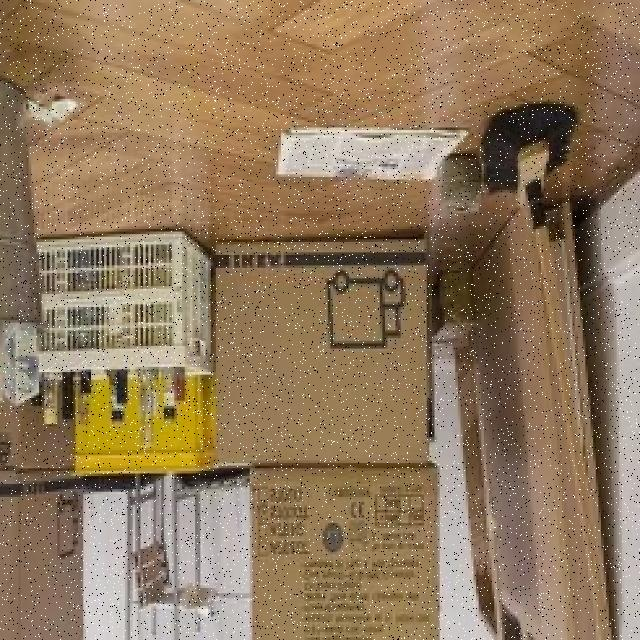box: (214, 238, 436, 468), (239, 471, 445, 640), (40, 224, 213, 376), (71, 366, 228, 482), (0, 479, 86, 640), (0, 356, 86, 484)
